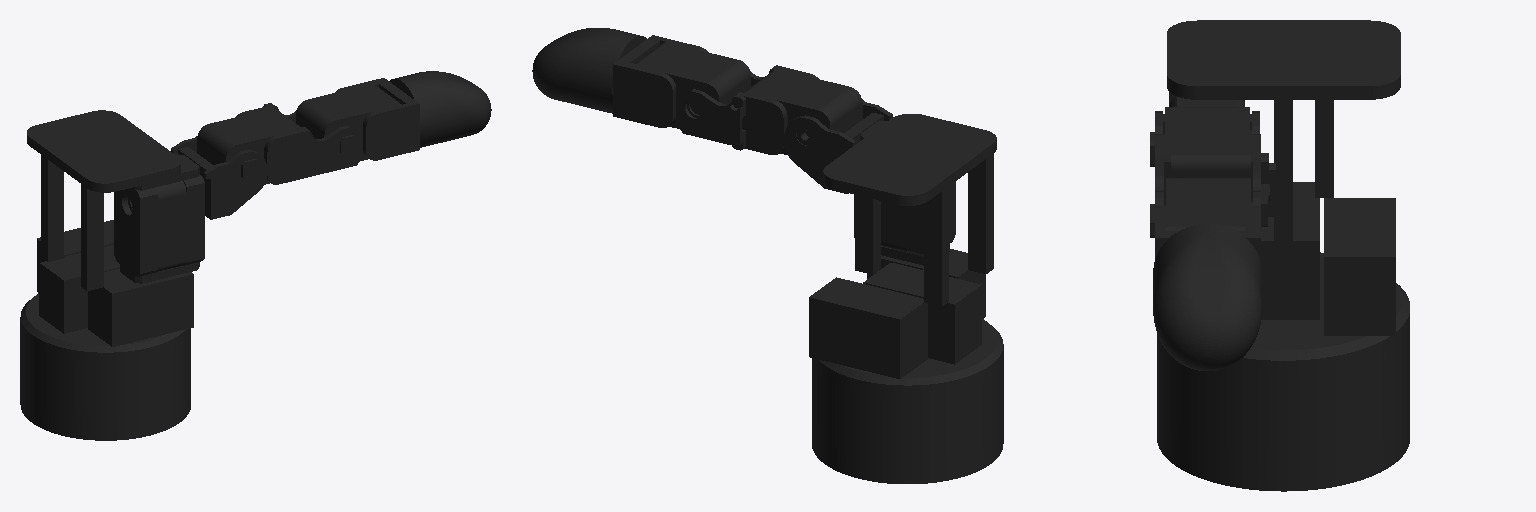
URDF robot description (delto_gripper_3f):
<?xml version="1.0" ?>

<robot name="delto_gripper_3f">

   <material name="silver">
      <color rgba="0.700 0.700 0.700 1"/>
   </material>

   <material name="black">
      <color rgba="0.196 0.196 0.196 1"/>
   </material>

   <material name="white">
      <color rgba="0.8 0.8 0.8 1"/>
   </material>

   <link name="delto_base_link">

      <inertial>
         <origin xyz="0.000883196 -7.49966e-05 0.0324928" rpy="0 0 0"/>
         <mass value="0.370"/>
         <inertia ixx="0.0003269" iyy="0.000311459" izz="0.000182324" ixy="-4.81638e-07" ixz="2.90647e-06" iyz="1.4022e-06"/>
      </inertial>

      <visual>
         <origin xyz="0 0 0" rpy="0 0 0"/>
         <geometry>
            <mesh filename="meshes/visual/delto_base_link.stl" scale="0.001 0.001 0.001"/>
         </geometry>
         <material name="black"/>
      </visual>

      <collision>
         <origin xyz="0 0 0" rpy="0 0 0"/>
         <geometry>
            <mesh filename="meshes/collision/delto_base_link.stl" scale="0.001 0.001 0.001"/>
         </geometry>
      </collision>

   </link>



<link name="F2_01">

      <inertial>
      
         <origin xyz="0.000365161 1.10309e-07 0.0215156" rpy= "0 0 0"/>
         <mass value="0.061"/>
         <inertia ixx="1.89742e-05" iyy="2.20546e-05" izz="7.1394e-06" ixy="0" ixz="-2.59697e-07" iyz="0"/>
      </inertial>

      <visual>
         <origin xyz="0 0 0" rpy="0 0 0"/>
         <geometry>
            <mesh filename="meshes/visual/link_01.stl" scale="0.001 0.001 0.001"/>
         </geometry>
         <material name="black"/>
      </visual>
      
      <collision>
         <origin xyz="0 0 0" rpy="0 0 0"/>
         <geometry>
            <mesh filename="meshes/collision/link_01.stl" scale="0.001 0.001 0.001"/>
         </geometry>
      </collision> 

   </link>



   <link name="F2_02">
      <inertial>
         <origin xyz="0.00353133 0.000519754 0.00690092" rpy="0 0 0"/>
         <mass value="0.025"/>
         <inertia ixx="3.51946e-06" iyy="2.02334e-06" izz="3.33911e-06" ixy="-6.14263e-08" ixz="-2.82283e-07" iyz="-1.17458e-07"/>
      </inertial>

      <visual>
         <origin xyz="0 0 0" rpy="0 0 0"/>
         <geometry>
            <mesh filename="meshes/visual/link_02.stl" scale="0.001 0.001 0.001"/>
         </geometry>
         <material name="black"/>
      </visual>

      <collision>
         <origin xyz="0 0 0" rpy="0 0 0"/>
         <geometry>
            <mesh filename="meshes/collision/link_02.stl" />
         </geometry>
      </collision>
   </link>
   <link name="F2_03">
      <inertial>
         <origin xyz="-0.0112398 9.3567e-05 -0.000281754" rpy="0 0 0"/>
         <mass value="0.051"/>
         <inertia ixx="4.27392e-06" iyy="9.20872e-06" izz="7.9414e-06" ixy="1.28652e-07" ixz="1.82142e-08" iyz="-3.12743e-09"/>
      </inertial>

      <visual>
         <origin xyz="0 0 0" rpy="0 0 0"/>
         <geometry>
            <mesh filename="meshes/visual/link_03.stl" scale="0.001 0.001 0.001"/>
         </geometry>
         <material name="black"/>
      </visual>
      <collision>
         <origin xyz="0 0 0" rpy="0 0 0"/>
         <geometry>
            <mesh filename="meshes/collision/link_03.stl" scale="0.001 0.001 0.001"/>
         </geometry>
      </collision>
   </link>
   <link name="F2_04">
      <inertial>
         <origin xyz="-0.0241548 0.000398931 -0.0001378" rpy="0 0 0"/>
         <mass value="0.0710"/>
         <inertia ixx="5.92843e-06" iyy="3.20691e-05" izz="3.11001e-05" ixy="9.13193e-07" ixz="3.8959e-08" iyz="-1.03979e-09"/>
      </inertial>

      <visual>
         <origin xyz="0 0 0" rpy="0 0 0"/>
         <geometry>
            <mesh filename="meshes/visual/link_04.stl" scale="0.001 0.001 0.001"/>
         </geometry>
         <material name="black"/>
      </visual>

      <collision>
         <origin xyz="0 0 0" rpy="0 0 0"/>
         <geometry>
            <mesh filename="meshes/collision/link_04.stl" scale="0.001 0.001 0.001"/>
         </geometry>
      </collision>

   </link>
   <link name="F2_TIP">
      <inertial>
         <origin xyz="0 0 0" rpy="0 0 0"/>
         <mass value="0.0"/>
         <inertia ixx="0" iyy="0" izz="0" ixy="0" ixz="0" iyz="0"/>
      </inertial>
   </link>









   <!--Joint -->



   <joint name = "F2M1" type = "revolute">
      <origin xyz="0.01320 -0.01960 0.06180" rpy="0 0 3.141592"/>
      <parent link="delto_base_link"/>
      <child link="F2_01"/>
      <axis xyz="0.0 0.0 1.0"/>
      <limit effort="10.0" velocity="5.0" lower="-1.0472" upper="1.0472" />
      <dynamics damping="1.1" friction="1.1"/>
   </joint>

   <joint name = "F2M2" type = "revolute">
      <origin xyz="-0.01420 0.0 0.03030" rpy="0 -1.57078 0"/>
      <parent link="F2_01"/>
      <child link="F2_02"/>
      <axis xyz="0.0 0.0 1.0"/>
      <limit effort="10.0" velocity="5.0" lower="-1.76278" upper="1.76278" />
      <dynamics damping="1.1" friction="1.1"/>
   </joint>
   <joint name = "F2M3" type = "revolute">
      <origin xyz="0.01010 0 0.01750 " rpy="0 1.57078 1.57078"/>
      <parent link="F2_02"/>
      <child link="F2_03"/>
      <axis xyz="0.0 0.0 1.0"/>
      <limit effort="10.0" velocity="5.0" lower="-0.15708" upper="2.53073" />
      <dynamics damping="1.1" friction="1.1"/>
   </joint>

   <joint name = "F2M4" type = "revolute">
      <origin xyz="-0.0434 0.0 0.0" rpy="0 0 0"/>
      <parent link="F2_03"/>
      <child link="F2_04"/>
      <axis xyz="0.0 0.0 1.0"/>
      <limit effort="10.0" velocity="5.0" lower="-0.226893" upper="2.02458"/>
      <dynamics damping="1.1" friction="1.1"/>
   </joint>   

    <joint name = "TIP2" type="fixed">
      <origin xyz="-0.05587 -0.00922 0.0 " rpy="1.57078 0 0 "/>
      <parent link="F2_04"/>
      <child link="F2_TIP"/>
   </joint>







</robot>

--- Facts derived from the render (not from the file) ---
Views: 3 orthographic renders of the robot side by side, from view 1: azimuth 30°, elevation 25°; view 2: azimuth 150°, elevation 25°; view 3: azimuth 270°, elevation 25°.
Robot: delto_gripper_3f — 6 links, 5 joints (4 revolute, 1 fixed); root link delto_base_link; default pose: all joints at 0.
Visible links, largest first — view 1: delto_base_link, F2_04, F2_01, F2_03, F2_02; view 2: delto_base_link, F2_04, F2_03, F2_02, F2_01; view 3: delto_base_link, F2_04, F2_03, F2_02, F2_01.
Boxes of the visible links, left/top/right/bottom form: delto_base_link: left=20, top=110, right=193, bottom=440; F2_04: left=296, top=71, right=491, bottom=160; F2_01: left=114, top=154, right=204, bottom=283; F2_03: left=197, top=103, right=361, bottom=184; F2_02: left=171, top=136, right=267, bottom=219; delto_base_link: left=809, top=114, right=1003, bottom=483; F2_04: left=532, top=28, right=750, bottom=128; F2_03: left=677, top=65, right=862, bottom=154; F2_02: left=784, top=99, right=892, bottom=193; F2_01: left=854, top=121, right=955, bottom=265; delto_base_link: left=1157, top=20, right=1409, bottom=491; F2_04: left=1153, top=178, right=1261, bottom=370; F2_03: left=1150, top=107, right=1275, bottom=237; F2_02: left=1150, top=111, right=1259, bottom=166; F2_01: left=1169, top=92, right=1244, bottom=106.
Bounding box of the posed robot: 0.1886 × 0.0669 × 0.116 m (x, y, z).
Meshes: 5 distinct files referenced, 5 mesh visuals loaded (5 binary STL).